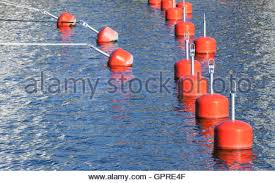buoy: (214, 120, 253, 151), (197, 94, 230, 121), (179, 77, 208, 97), (174, 60, 202, 80), (195, 37, 217, 54), (176, 23, 195, 35), (166, 8, 182, 21), (179, 2, 193, 14)
